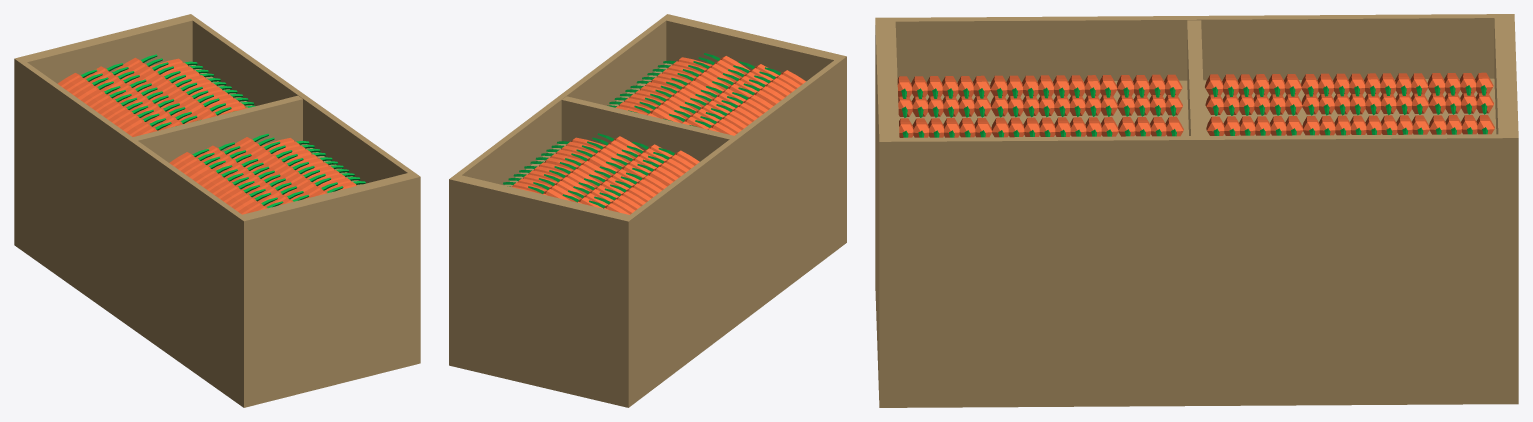
File: carrot_box.gltf
3 renders of one model, left to right at view 1: azimuth 30°, elevation 25°; view 2: azimuth 150°, elevation 25°; view 3: azimuth 270°, elevation 25°, orthographic. The views are drawn at different scales.
Parts seen in each view (by area): view 1: Cube.028; view 2: Cube.028; view 3: Cube.028.
Part boxes in pixels (x1,y1,x2,y2): Cube.028: (14, 14, 420, 407); Cube.028: (449, 14, 846, 407); Cube.028: (875, 14, 1518, 407).
Bounding box in the file's own units: 4.36 × 4.23 × 9.28.
2 materials, 1 textured.
